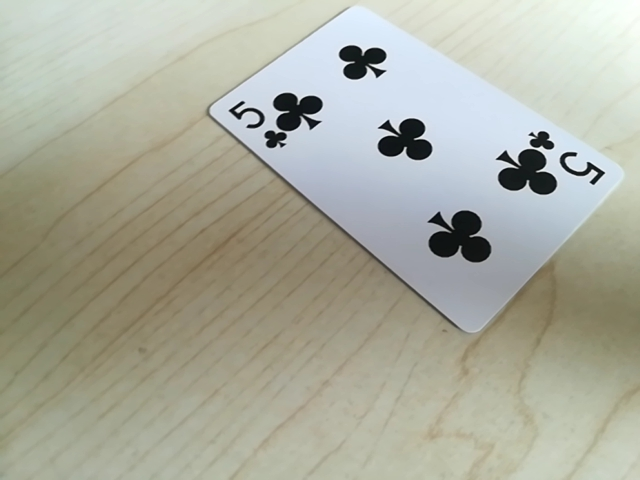mh 5: (531, 132, 605, 194), (225, 95, 287, 153)
